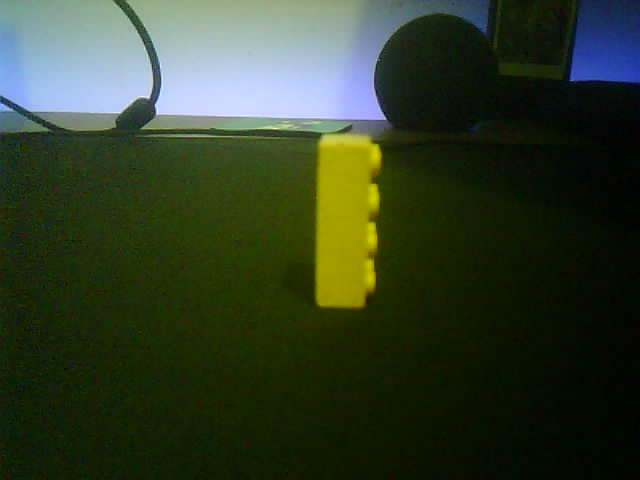lego: (314, 131, 383, 308)
